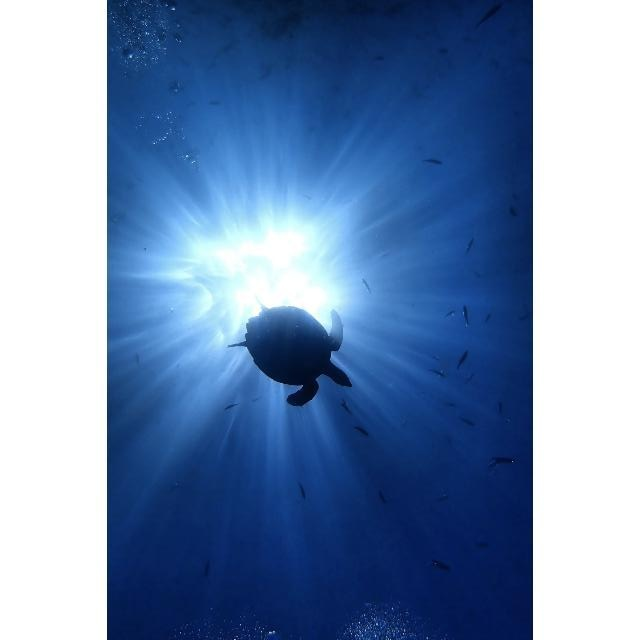turtle: (225, 297, 352, 407)
